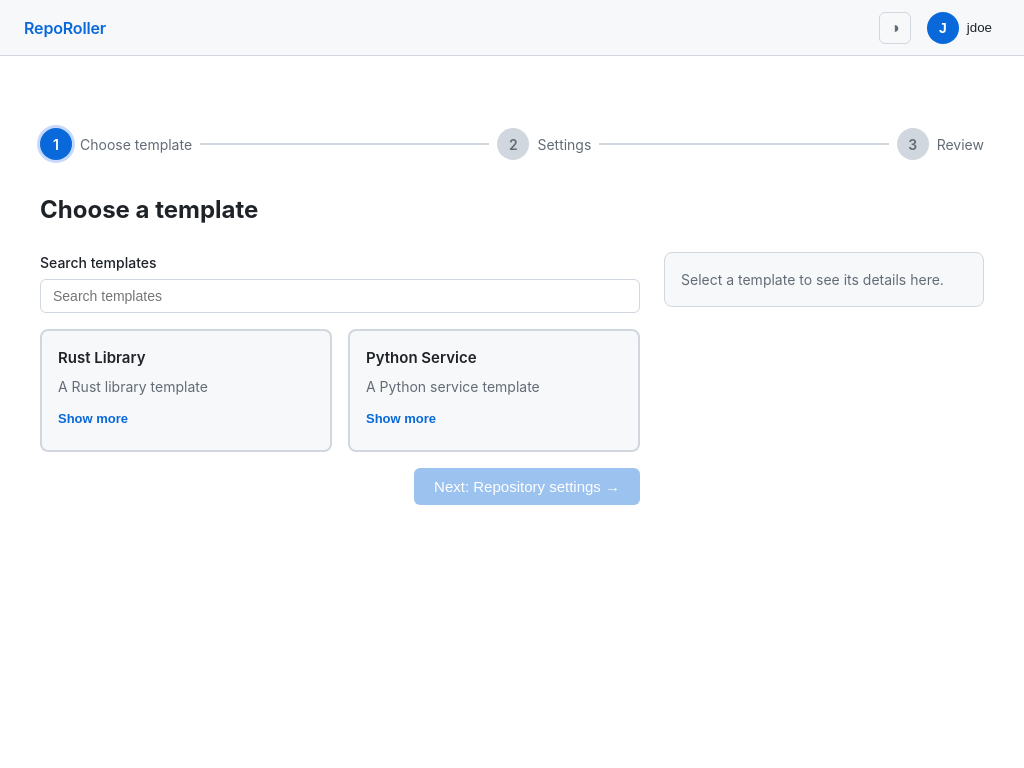
it: Create wizard (SCR-004) › returns to step 1 when "← Back" is clicked from step 2
# Advance to step 2
Click the radio button with aria-label "rust-library" at point(186, 390), box x1=40 y1=329 x2=332 y2=452
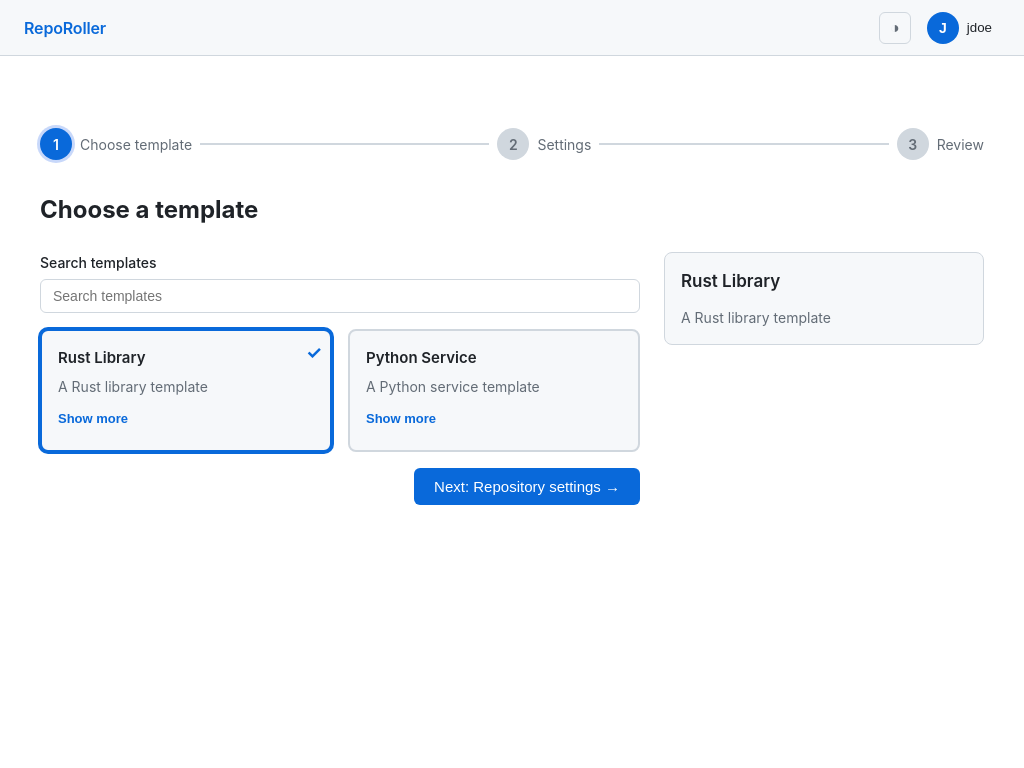
Result: the button "Next: Repository settings →" is enabled
Click the button "Next: Repository settings →" at point(527, 486), box x1=414 y1=468 x2=640 y2=504
(page scrolled)
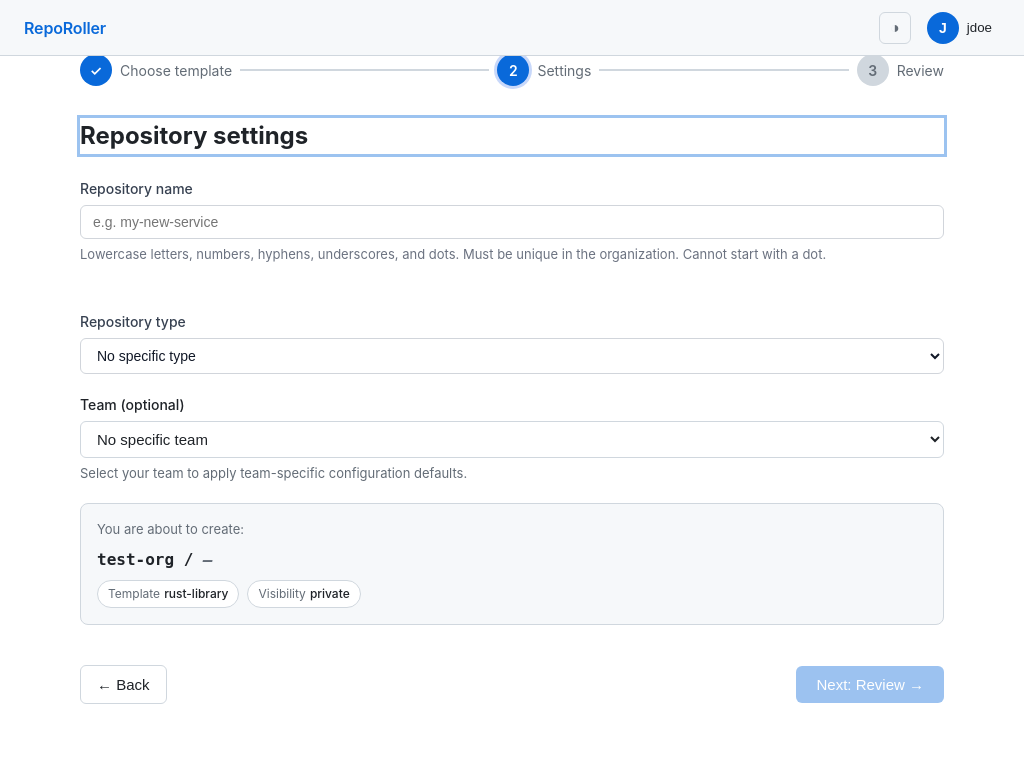
Result: the heading reads "Repository settings" at x1=80 y1=121 x2=308 y2=150
# Back to step 1
Click the button "← Back" at point(123, 684), box x1=80 y1=664 x2=166 y2=704
(page scrolled)
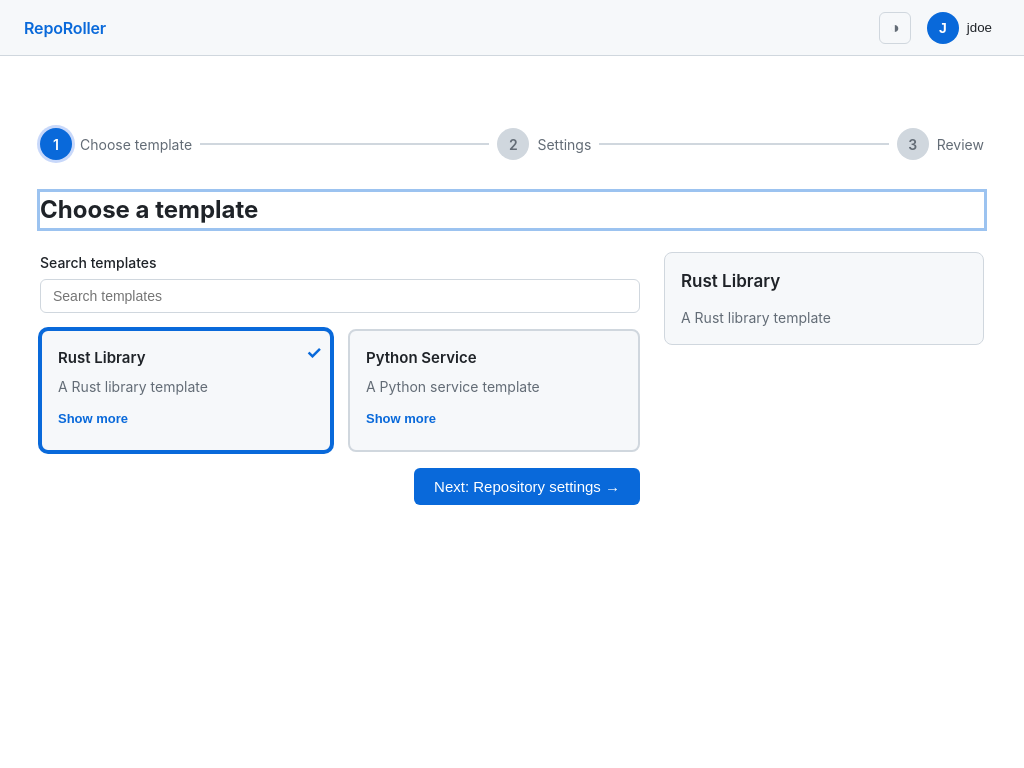
Result: the heading "Choose a template" is shown at x1=40 y1=192 x2=984 y2=228
